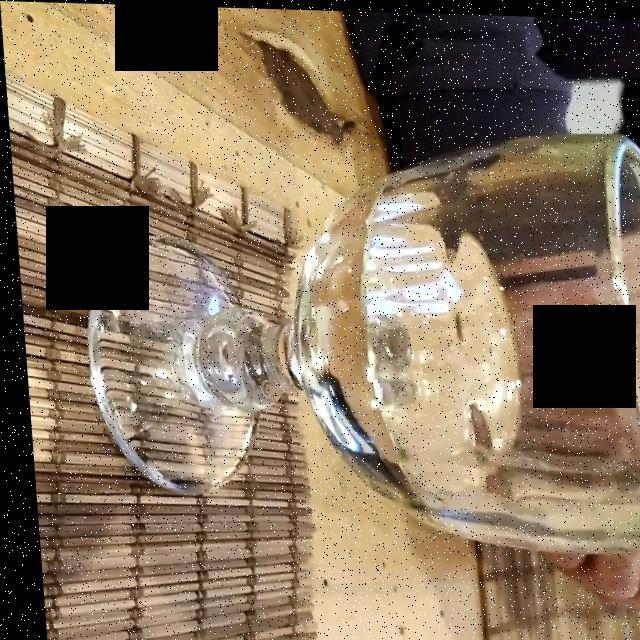wine: (301, 184, 515, 508)
